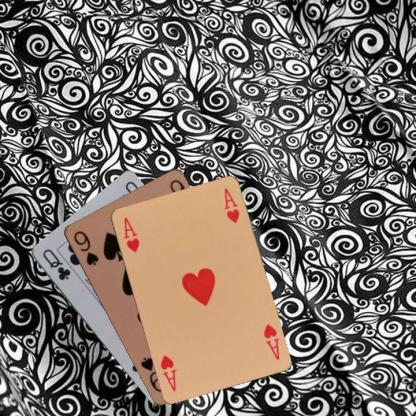9s: (70, 228, 100, 267)
Ah: (121, 214, 140, 254), (261, 321, 280, 361)
Qc: (39, 246, 72, 282)
